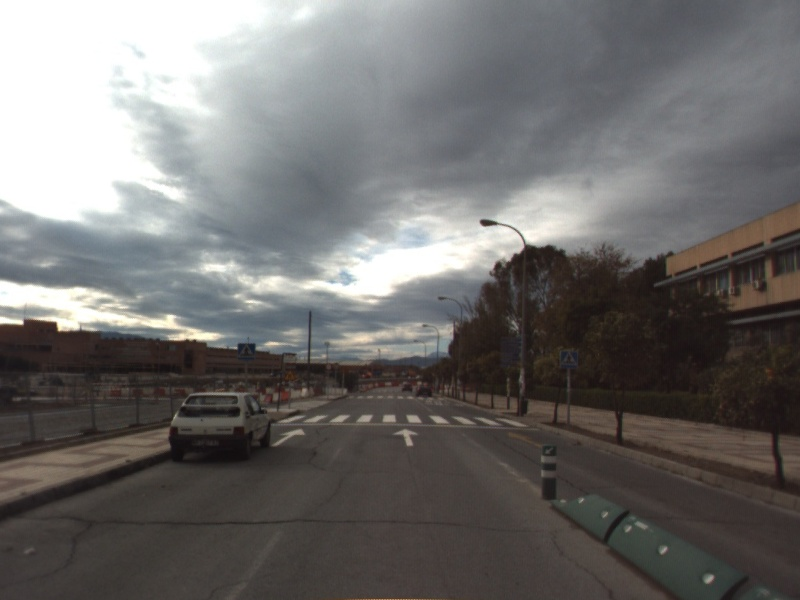STRAIGHT: (268, 426, 308, 449), (506, 429, 543, 448), (390, 426, 421, 448)
